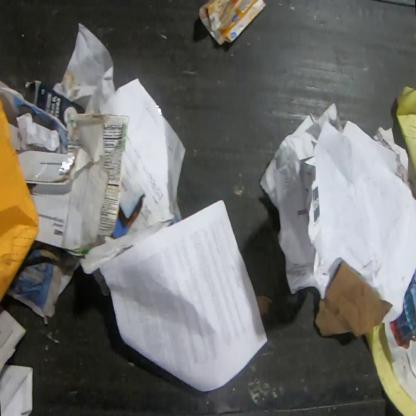cardboard: (16, 113, 130, 255), (0, 97, 39, 304), (313, 259, 395, 338), (197, 0, 268, 48)
